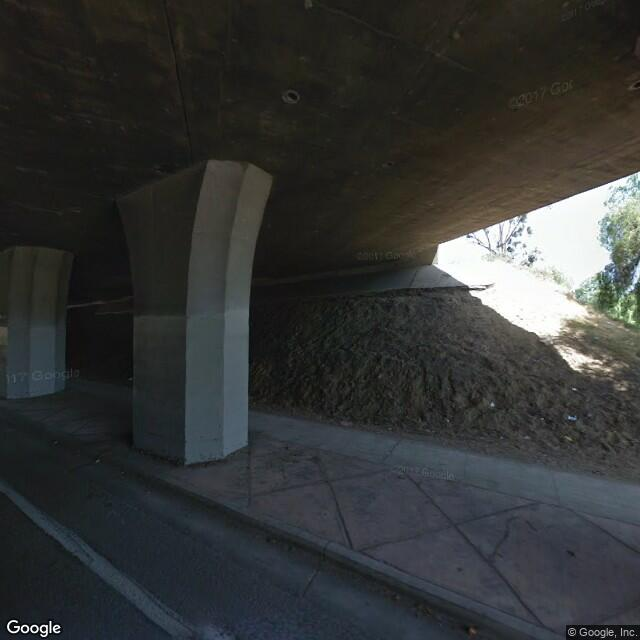litter: (566, 413, 576, 421), (562, 437, 573, 444), (489, 400, 495, 409), (93, 456, 98, 463), (572, 386, 577, 392)
